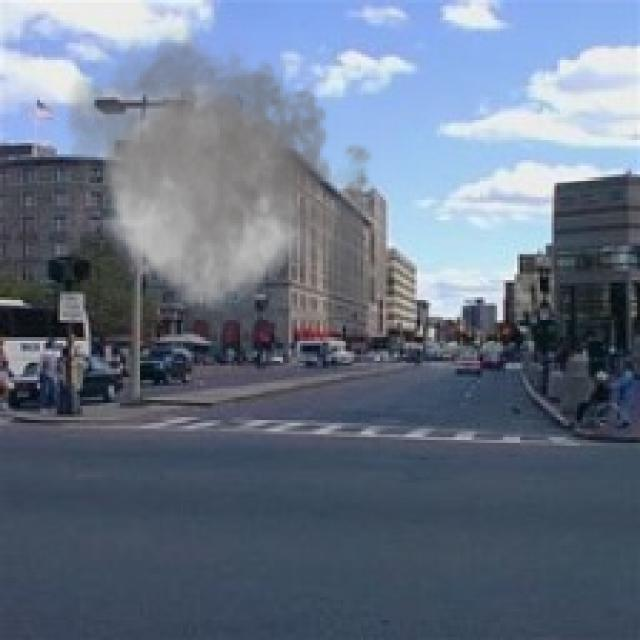smoke: (52, 14, 394, 372)
